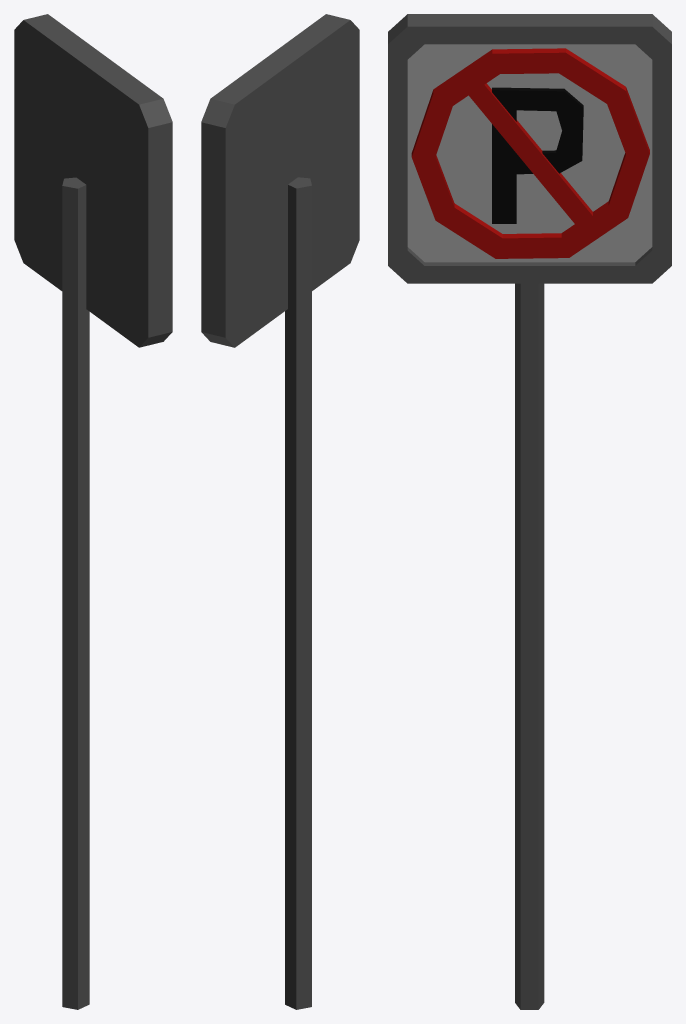
File: Sign_NoParking.glb
3 views of the same model, side by side, from view 1: azimuth 30°, elevation 25°; view 2: azimuth 150°, elevation 25°; view 3: azimuth 270°, elevation 25° (orthographic). The views are drawn at different scales.
Parts seen in each view (by area): view 1: Parking_Cylinder.002; view 2: Parking_Cylinder.002; view 3: Parking_Cylinder.002.
Boxes of the visible parts, bbox=[...] form: Parking_Cylinder.002: bbox=[14, 14, 172, 1009]; Parking_Cylinder.002: bbox=[201, 14, 359, 1009]; Parking_Cylinder.002: bbox=[388, 14, 671, 1009].
Size of the model in its own units: 0.0269 by 0.5388 by 0.1394.
